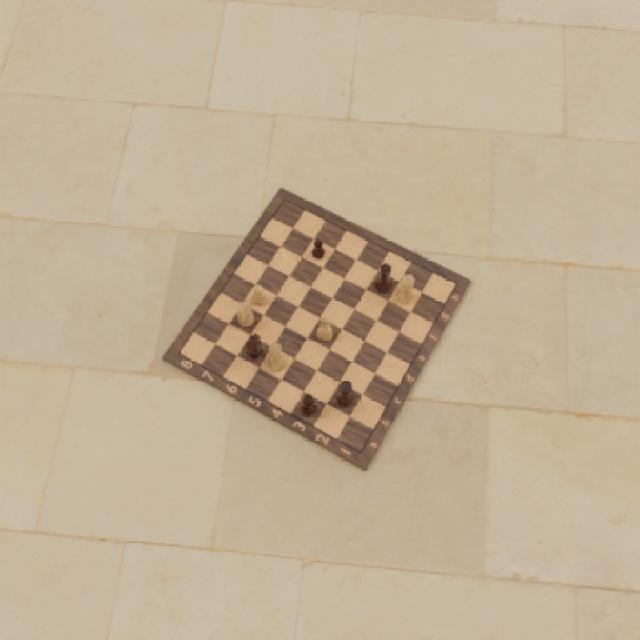black-bishop: (300, 392, 318, 417)
black-king: (374, 263, 394, 293)
black-knight: (244, 334, 265, 358)
black-pawn: (309, 235, 326, 260)
black-queen: (333, 378, 354, 410)
white-bishop: (315, 314, 333, 342)
white-king: (267, 341, 287, 374)
white-knight: (235, 297, 256, 328)
white-pawn: (248, 285, 267, 307)
white-queen: (396, 273, 416, 306)
